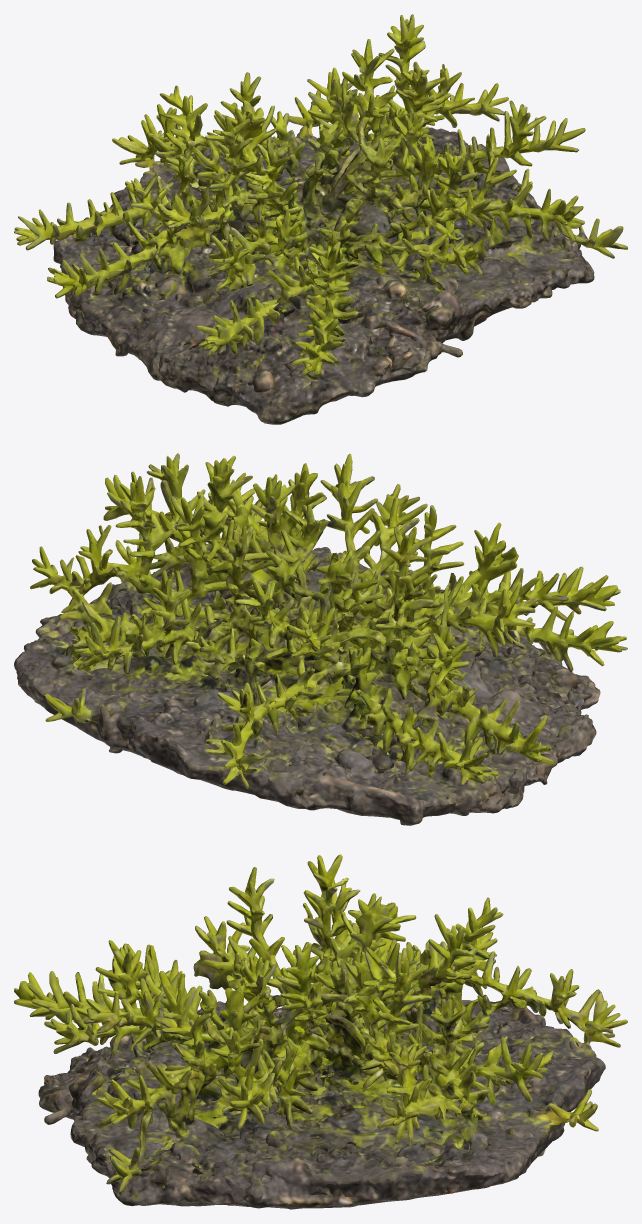
File: creeping-moss-v11.glb
3 views of the same model, one above another, from view 1: azimuth 30°, elevation 25°; view 2: azimuth 150°, elevation 25°; view 3: azimuth 270°, elevation 25° (orthographic). The views are drawn at different scales.
Parts seen in each view (by area): view 1: geometry_0; view 2: geometry_0; view 3: geometry_0.
Part boxes in pixels (x1,y1,x2,y2): geometry_0: [14, 14, 627, 424]; geometry_0: [14, 453, 627, 825]; geometry_0: [14, 854, 627, 1209].
Bounding box in the file's own units: 0.12 × 0.0608 × 0.1197.
1 material, 1 textured.
